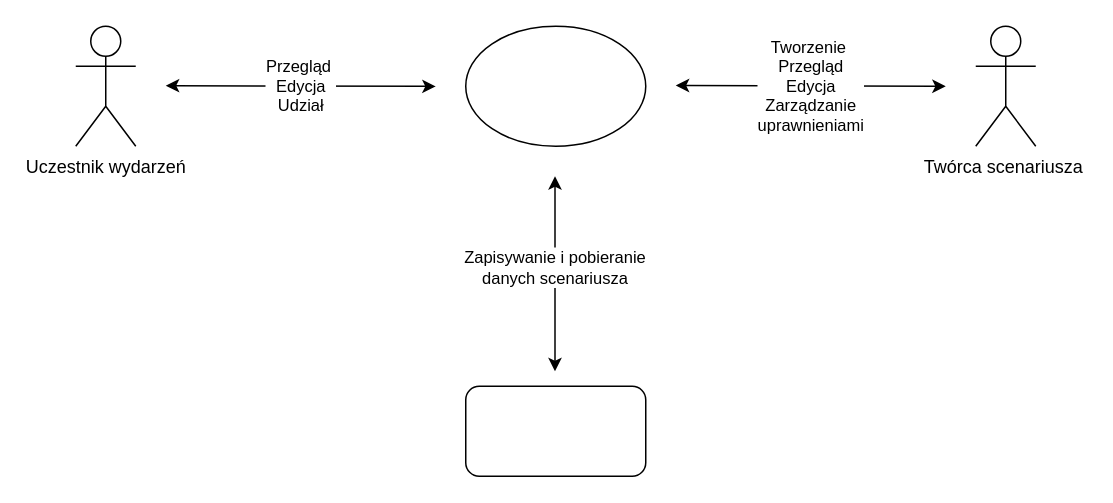
This 1113x503 diagram has some shape labels left out. Here are the shapes that lost their labels. From the top down, the centre of each, then its label:
At point (555, 85): "Scenario Modeling Tool (SMT)".
At point (555, 430): "Baza Danych".
